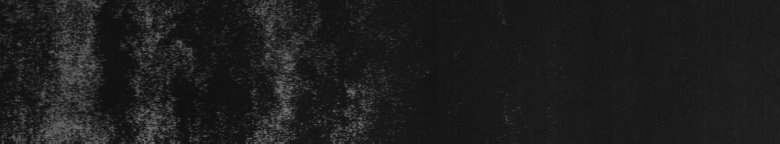kb: (44, 4, 376, 136)
